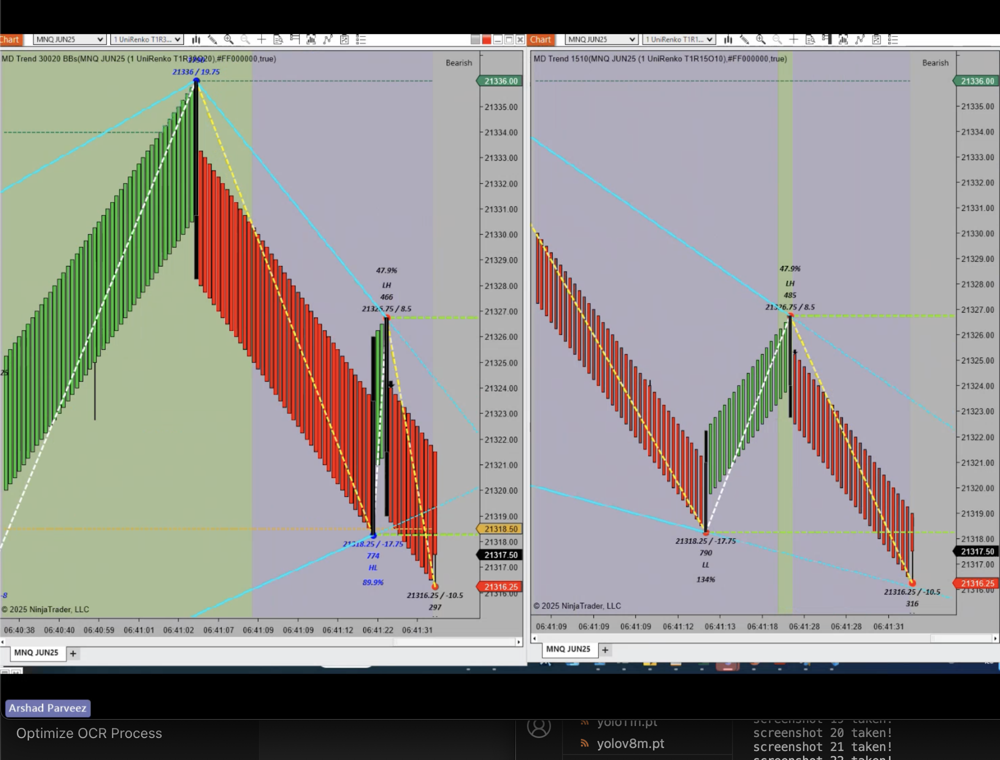HL: (364, 559, 383, 576)
LH: (376, 276, 395, 293), (784, 276, 799, 295)
LL: (695, 557, 716, 575)
